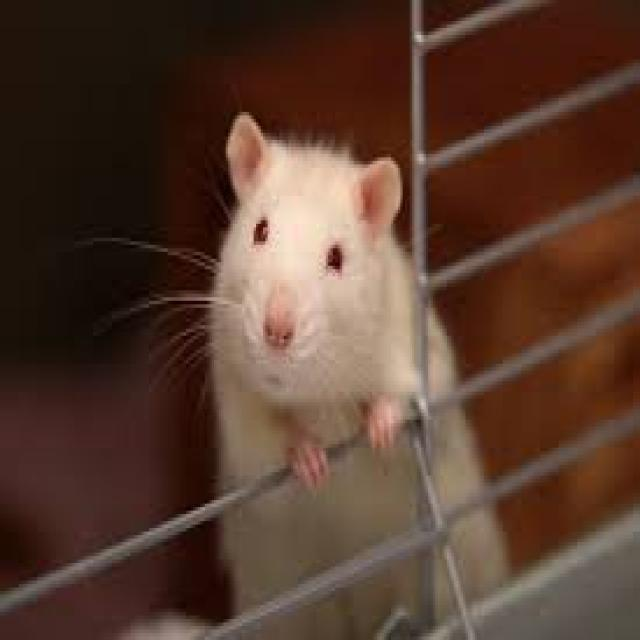Mouse: (200, 113, 496, 627)
